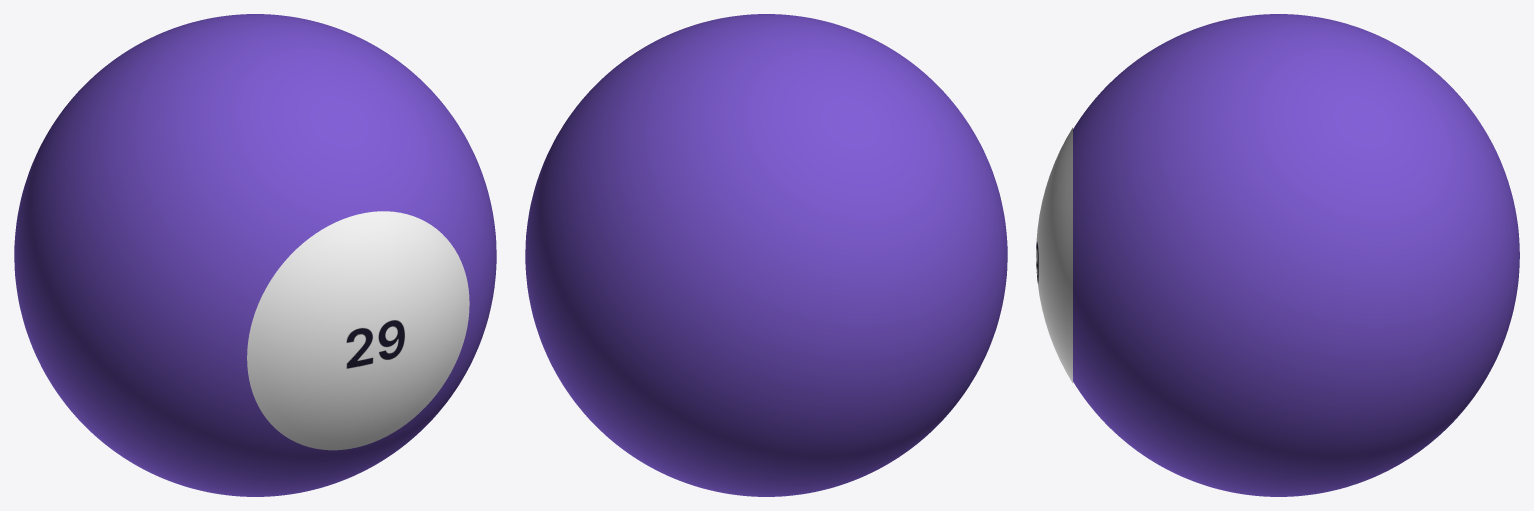
File: ball-29.glb
3 renders of one model, left to right at view 1: azimuth 30°, elevation 25°; view 2: azimuth 150°, elevation 25°; view 3: azimuth 270°, elevation 25°, orthographic.
Visible parts, largest first — view 1: Ball_29_Shell, Ball_29_Number_Disc; view 2: Ball_29_Shell; view 3: Ball_29_Shell, Ball_29_Number_Disc.
Part boxes in pixels (<box>): Ball_29_Shell: <box>14,14,496,496</box>; Ball_29_Number_Disc: <box>247,211,469,450</box>; Ball_29_Shell: <box>525,14,1007,496</box>; Ball_29_Shell: <box>1073,14,1519,496</box>; Ball_29_Number_Disc: <box>1036,127,1072,383</box>.
Size of the model in its own units: 1.84 by 1.84 by 1.84.
2 materials, 1 textured.
